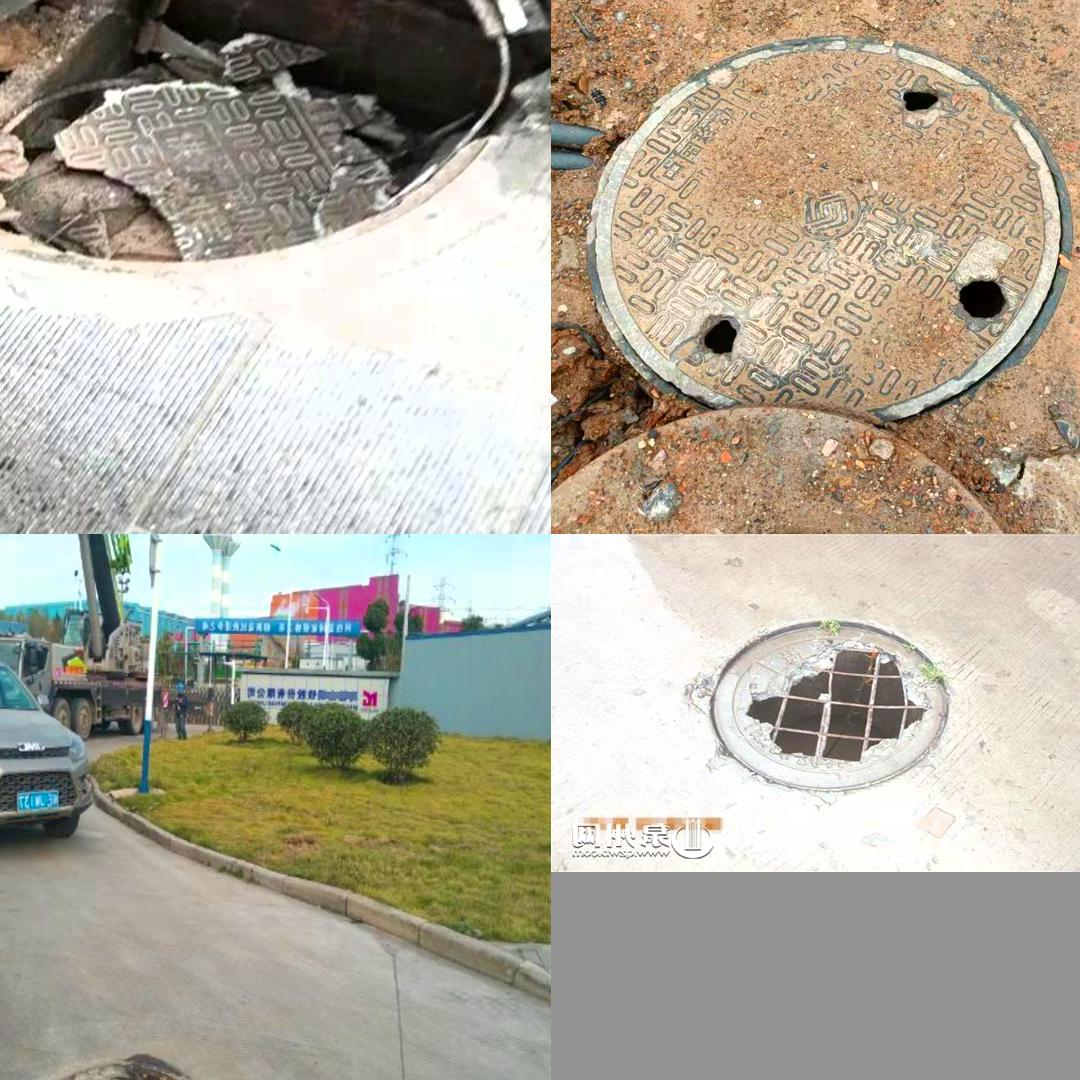broke: (584, 35, 1070, 426), (0, 0, 536, 313), (674, 607, 976, 808), (27, 1059, 205, 1080)
